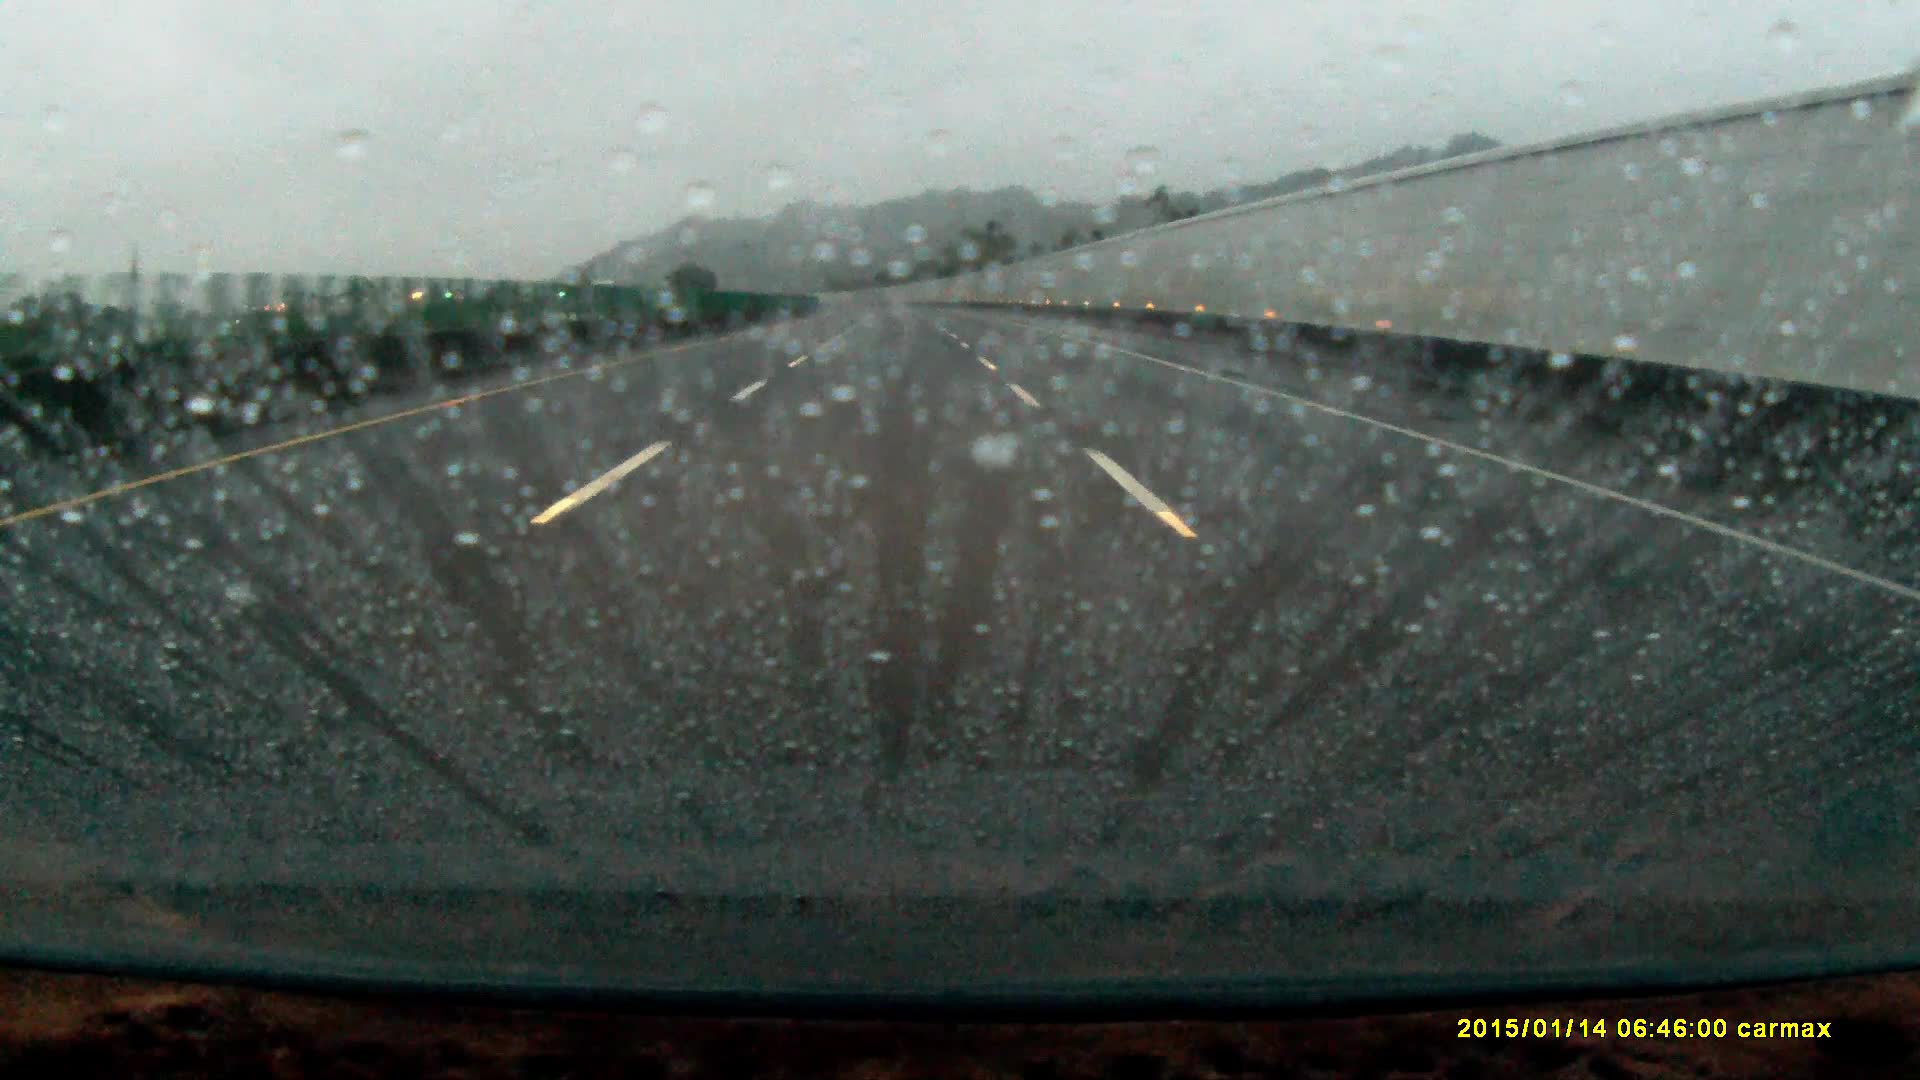vehicle: (549, 297, 603, 331)
